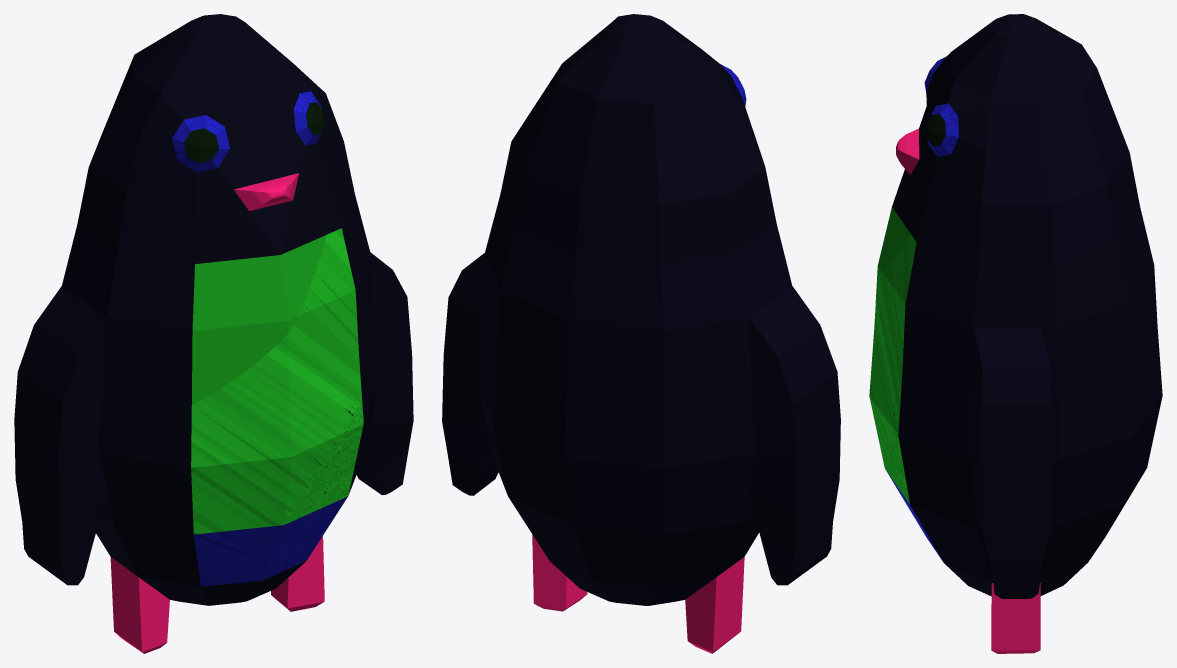
File: penguinTest1.glb
The picture shows the model from 3 angles, left to right: view 1: azimuth 30°, elevation 25°; view 2: azimuth 150°, elevation 25°; view 3: azimuth 270°, elevation 25°; orthographic projection. The views are drawn at different scales.
Visible parts, largest first — view 1: Cone; view 2: Cone; view 3: Cone.
Part boxes in pixels (<box>): Cone: <box>14,14,413,653</box>; Cone: <box>442,14,840,653</box>; Cone: <box>869,14,1162,653</box>.
Bounding box in the file's own units: 1.72 × 2.78 × 1.24.
3 materials, 3 textured.
